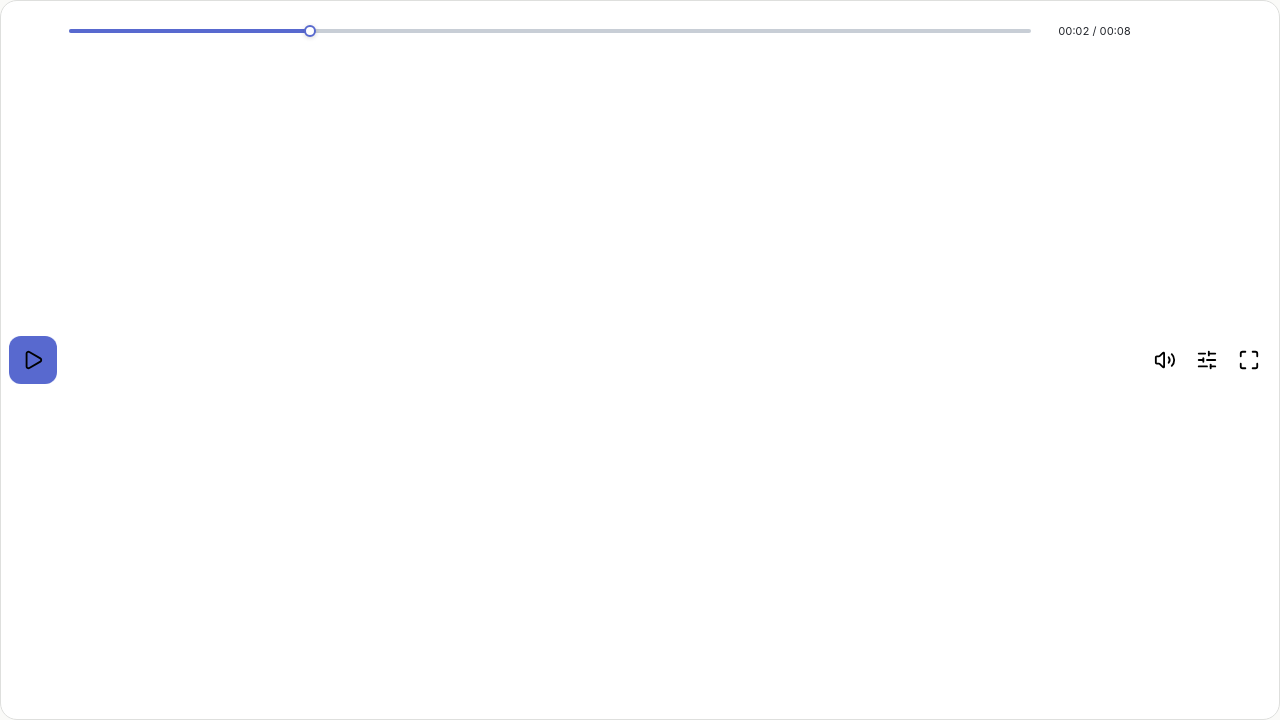
VideoControls › keeps primary controls visible and moves secondary controls into More when compact
Expected: the button named "播放" is shown, [11,338,55,382]
Expected: the button named "静音" is shown, [1145,340,1185,380]
Click the button named "更多播放控制".
click(1207, 360)  # box [1187,340,1227,380]
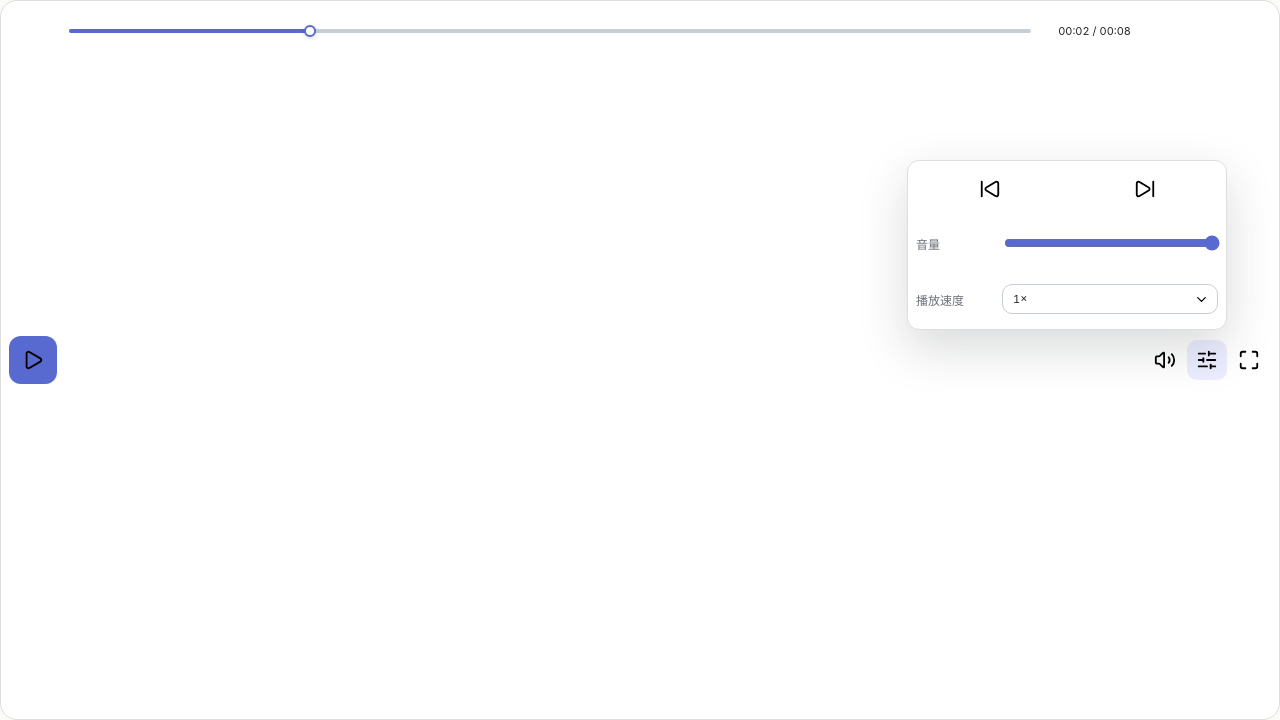
Expected: the button named "上一帧" is shown, [968,169,1012,209]
Expected: the button named "下一帧" is shown, [1122,169,1166,209]
Expected: the slider labelled "音量" is shown, [1004,235,1220,251]
